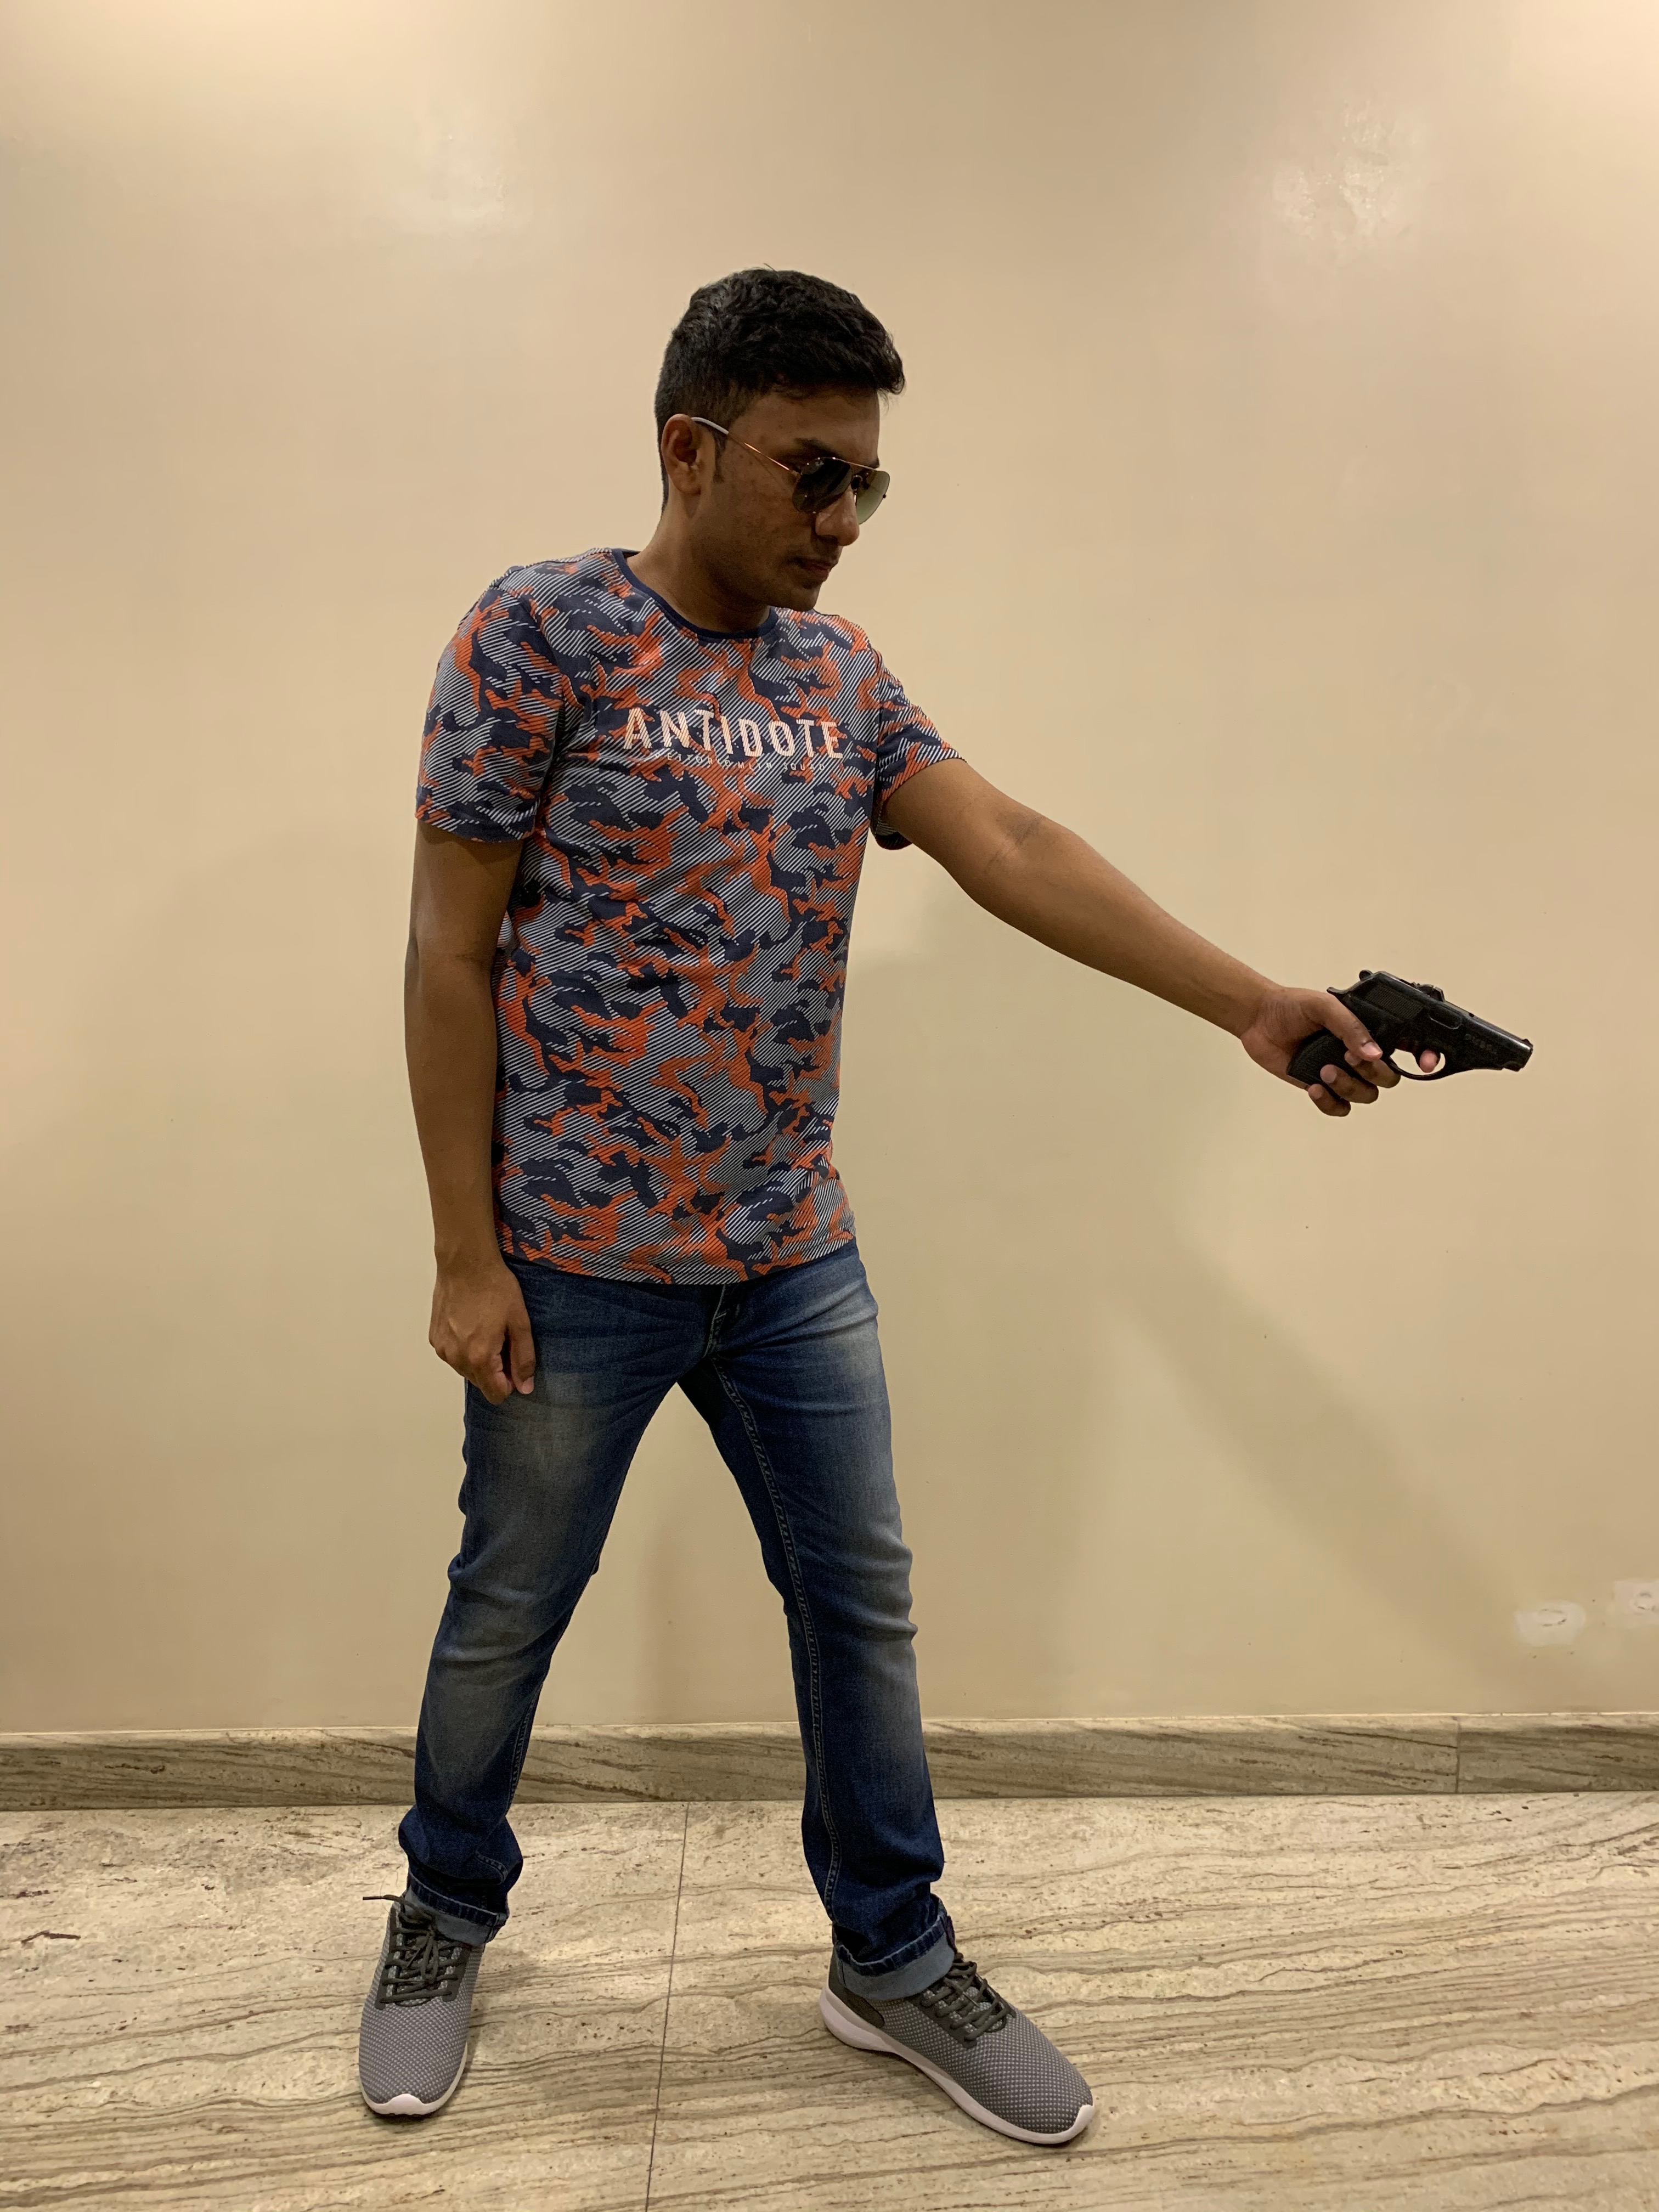gun: (1284, 958, 1534, 1104)
